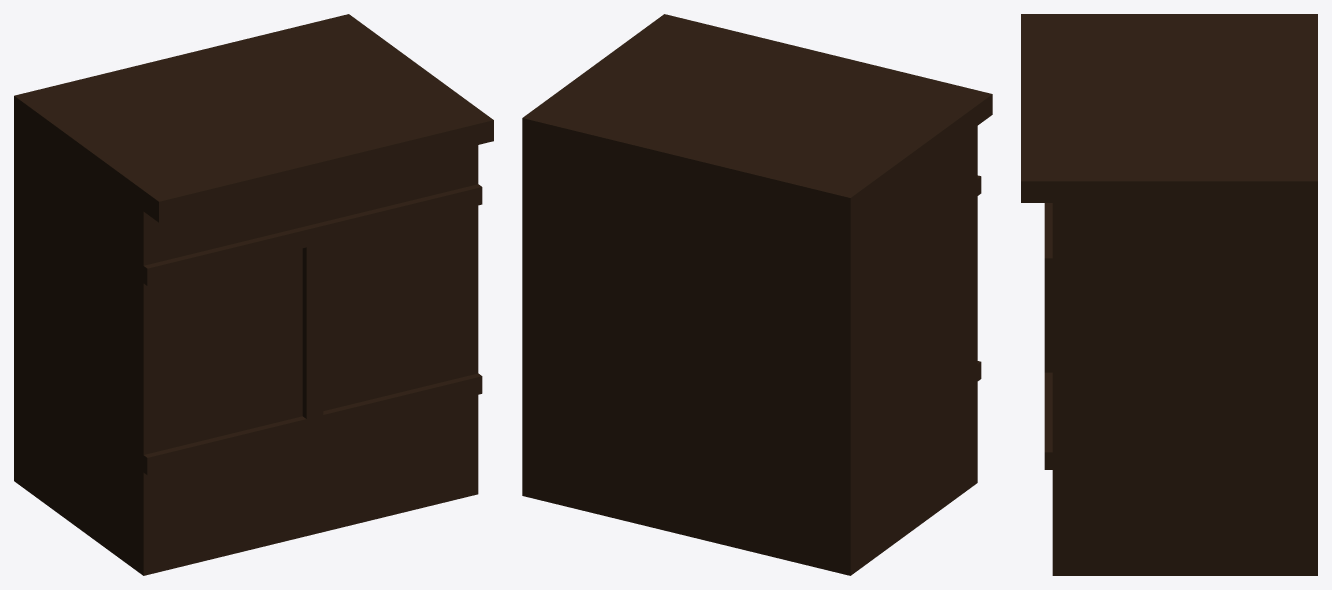
File: counter-mid.glb
3 renders of one model, left to right at view 1: azimuth 30°, elevation 25°; view 2: azimuth 150°, elevation 25°; view 3: azimuth 270°, elevation 25°, orthographic. The views are drawn at different scales.
Parts seen in each view (by area): view 1: counterMid; view 2: counterMid; view 3: counterMid.
Part boxes in pixels (x1,y1,x2,y2): counterMid: (14,14,493,575); counterMid: (522,14,992,575); counterMid: (1021,14,1317,575).
Bounding box in the file's own units: 1 × 1.1 × 0.75.
